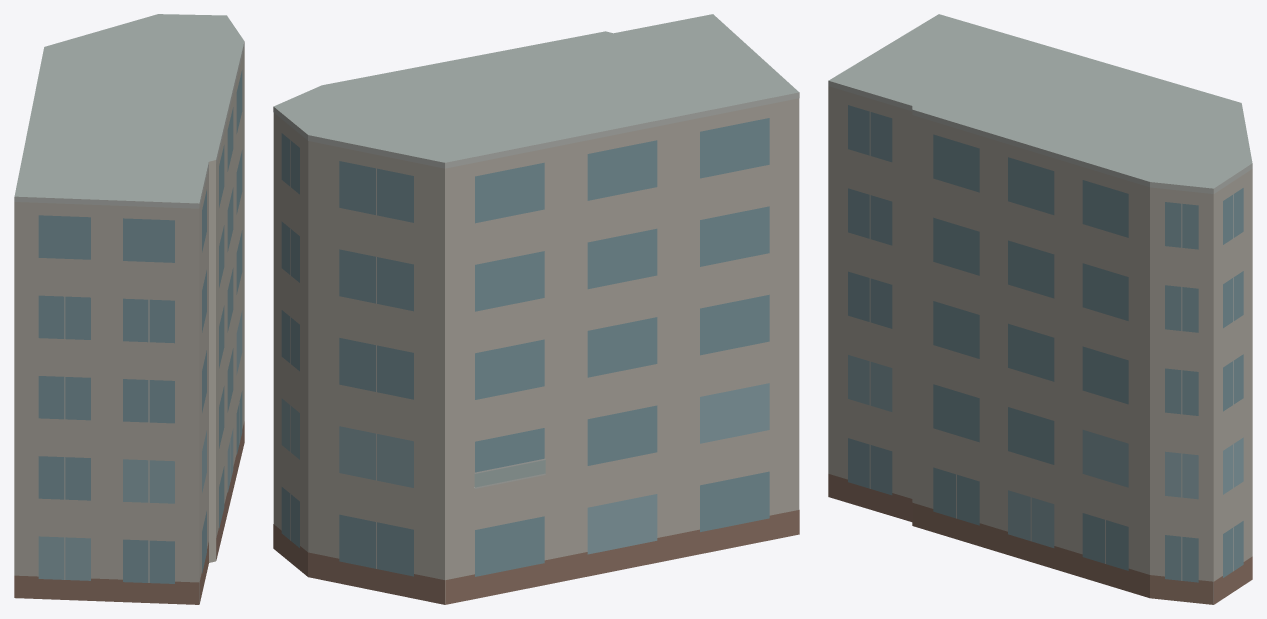
Rendered from survey-upis-32476798.glb.
3 renders of one model, left to right at view 1: azimuth 30°, elevation 25°; view 2: azimuth 150°, elevation 25°; view 3: azimuth 270°, elevation 25°, orthographic. The views are drawn at different scales.
Visible parts, largest first — view 1: survey-upis-32476798.tmp; view 2: survey-upis-32476798.tmp; view 3: survey-upis-32476798.tmp.
Part boxes in pixels (x1,y1,x2,y2): survey-upis-32476798.tmp: (14, 14, 244, 604); survey-upis-32476798.tmp: (273, 14, 799, 604); survey-upis-32476798.tmp: (828, 14, 1252, 604).
Bounding box in the file's own units: 16.65 × 18.5 × 17.09.
